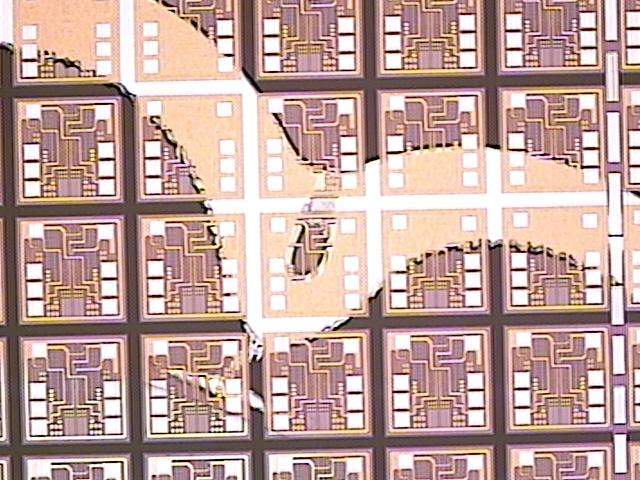COATING BAD: (1, 1, 640, 421)
